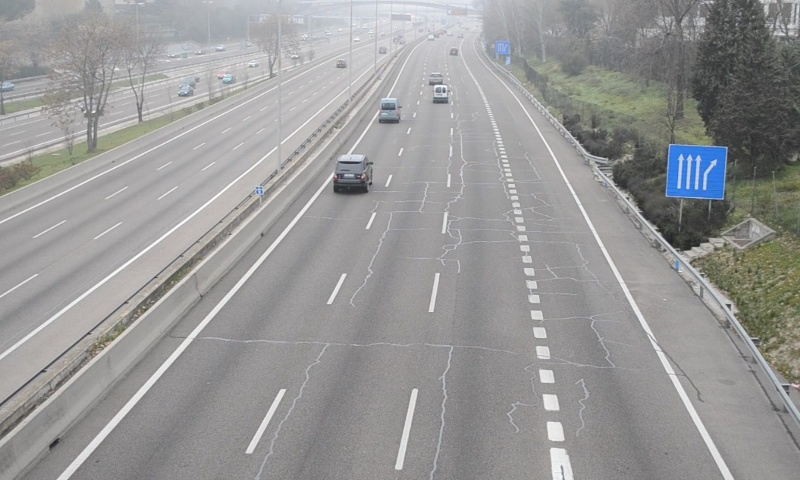car: (332, 154, 372, 190)
van: (379, 98, 400, 122)
